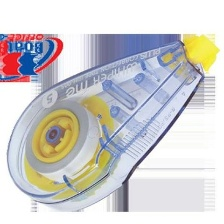correction_fluid: (4, 31, 221, 213)
